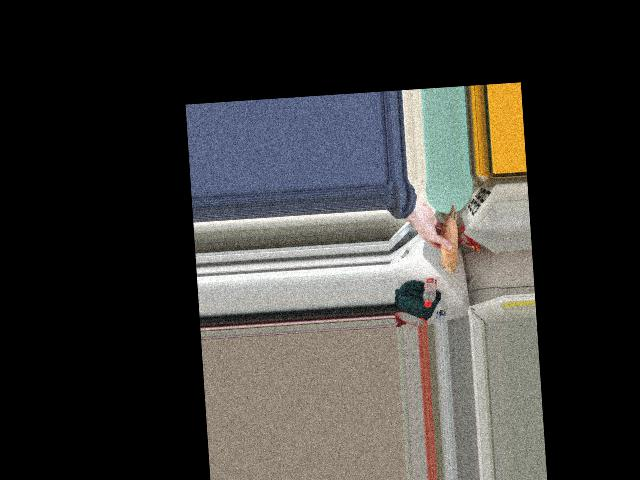sweet_potato: (434, 205, 465, 276)
